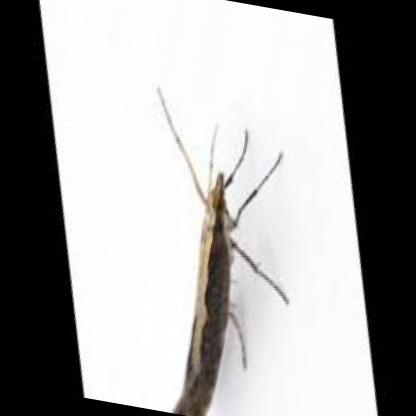plutella: (154, 76, 297, 416)
